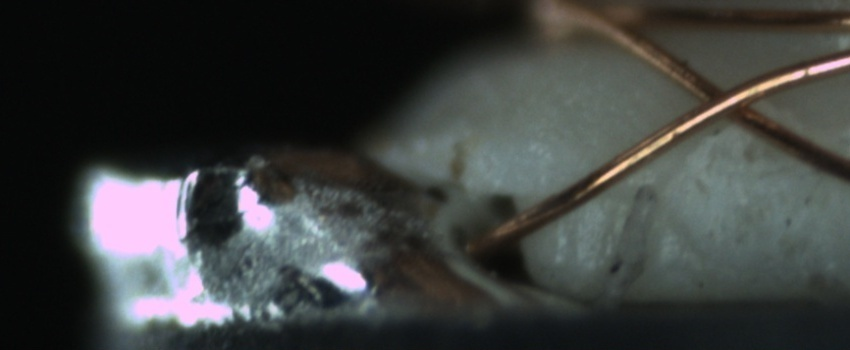CL: (675, 66, 779, 133)
